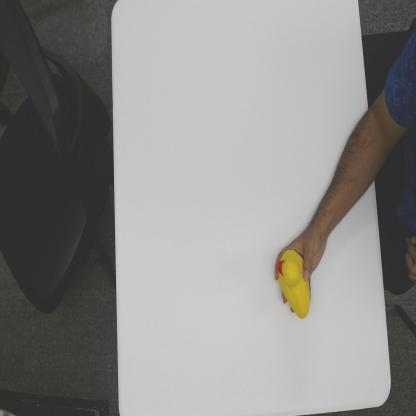Arm: (319, 109, 374, 245)
Duck: (280, 248, 310, 321)
Hand: (276, 227, 325, 315)
